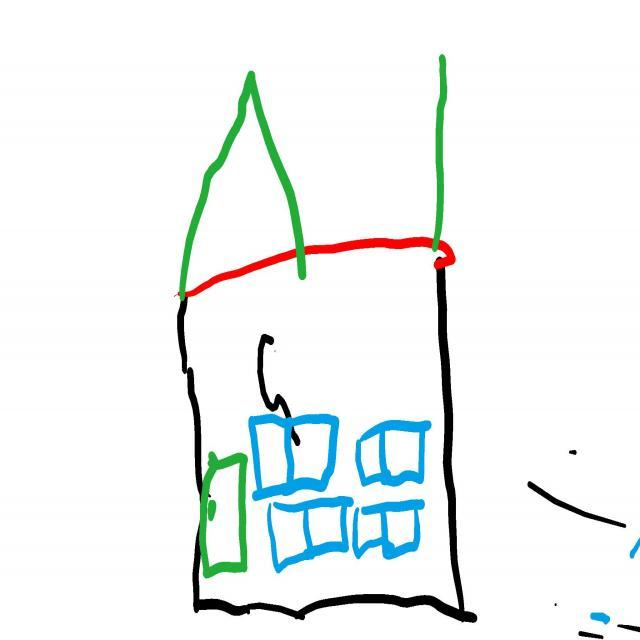chimney: (430, 48, 450, 242)
door: (203, 447, 248, 577)
house: (169, 49, 471, 625)
roof: (172, 67, 311, 299)
wall: (180, 243, 468, 620)
window: (250, 415, 340, 501), (268, 499, 354, 574), (356, 422, 432, 487), (353, 501, 425, 560)
